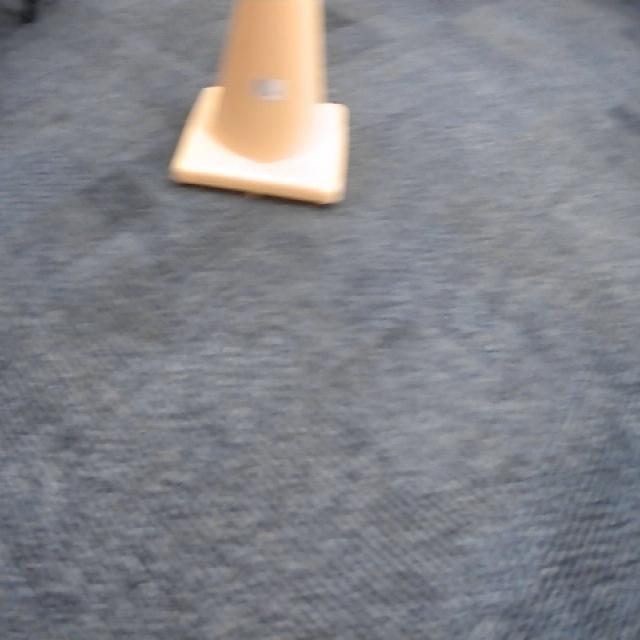cone: (154, 2, 365, 214)
